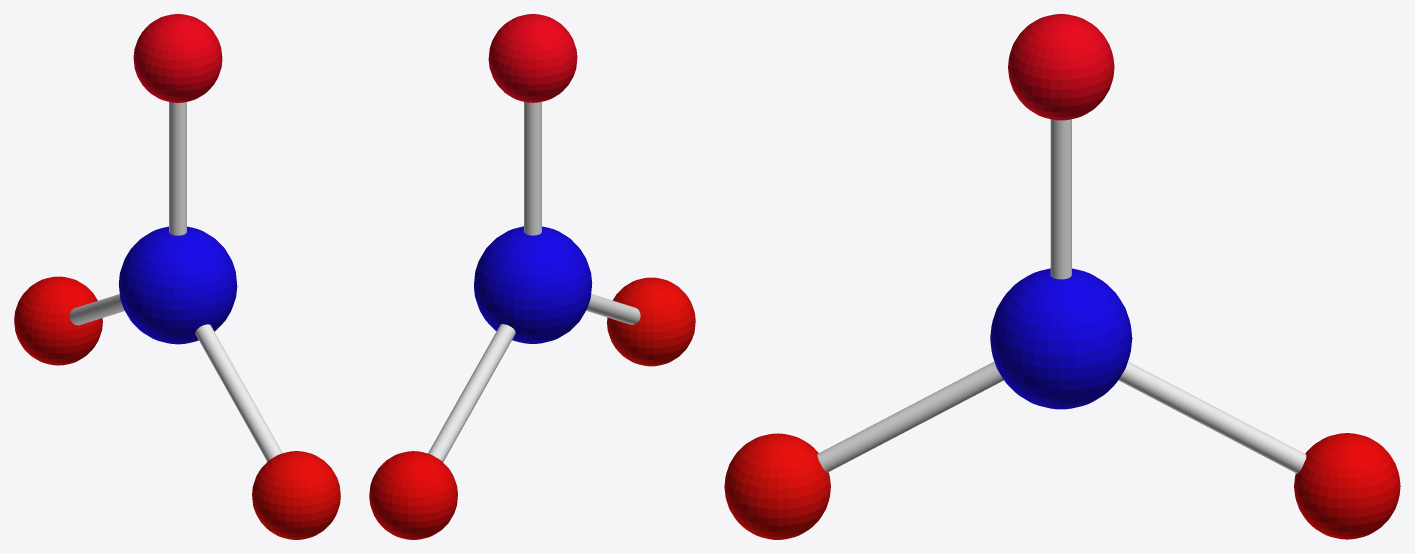
The picture shows the model from 3 angles, left to right: view 1: azimuth 30°, elevation 25°; view 2: azimuth 150°, elevation 25°; view 3: azimuth 270°, elevation 25°; orthographic projection. The views are drawn at different scales.
Visible parts, largest first — view 1: Sphere.003, Sphere, Sphere.002, Sphere.001, Cylinder, Cylinder.001, Cylinder.002; view 2: Sphere.003, Sphere.001, Sphere, Sphere.002, Cylinder.002, Cylinder.001, Cylinder; view 3: Sphere.003, Sphere, Sphere.001, Sphere.002, Cylinder.002, Cylinder, Cylinder.001.
Part boxes in pixels (x1=…): Sphere.003: x1=118, y1=226, x2=237, y2=344; Sphere: x1=133, y1=14, x2=222, y2=102; Sphere.002: x1=252, y1=451, x2=340, y2=539; Sphere.001: x1=14, y1=276, x2=102, y2=365; Cylinder: x1=195, y1=324, x2=282, y2=461; Cylinder.001: x1=169, y1=102, x2=186, y2=235; Cylinder.002: x1=69, y1=294, x2=124, y2=325; Sphere.003: x1=474, y1=226, x2=592, y2=343; Sphere.001: x1=369, y1=451, x2=457, y2=539; Sphere: x1=488, y1=14, x2=577, y2=102; Sphere.002: x1=607, y1=277, x2=695, y2=366; Cylinder.002: x1=428, y1=324, x2=515, y2=462; Cylinder.001: x1=524, y1=102, x2=541, y2=235; Cylinder: x1=586, y1=294, x2=640, y2=324; Sphere.003: x1=990, y1=268, x2=1132, y2=409; Sphere: x1=1008, y1=14, x2=1114, y2=120; Sphere.001: x1=1294, y1=433, x2=1400, y2=539; Sphere.002: x1=724, y1=433, x2=830, y2=539; Cylinder.002: x1=1118, y1=361, x2=1306, y2=473; Cylinder: x1=817, y1=361, x2=1003, y2=472; Cylinder.001: x1=1050, y1=119, x2=1071, y2=279.
Size of the model in its own units: 2 by 8.01 by 9.51.
